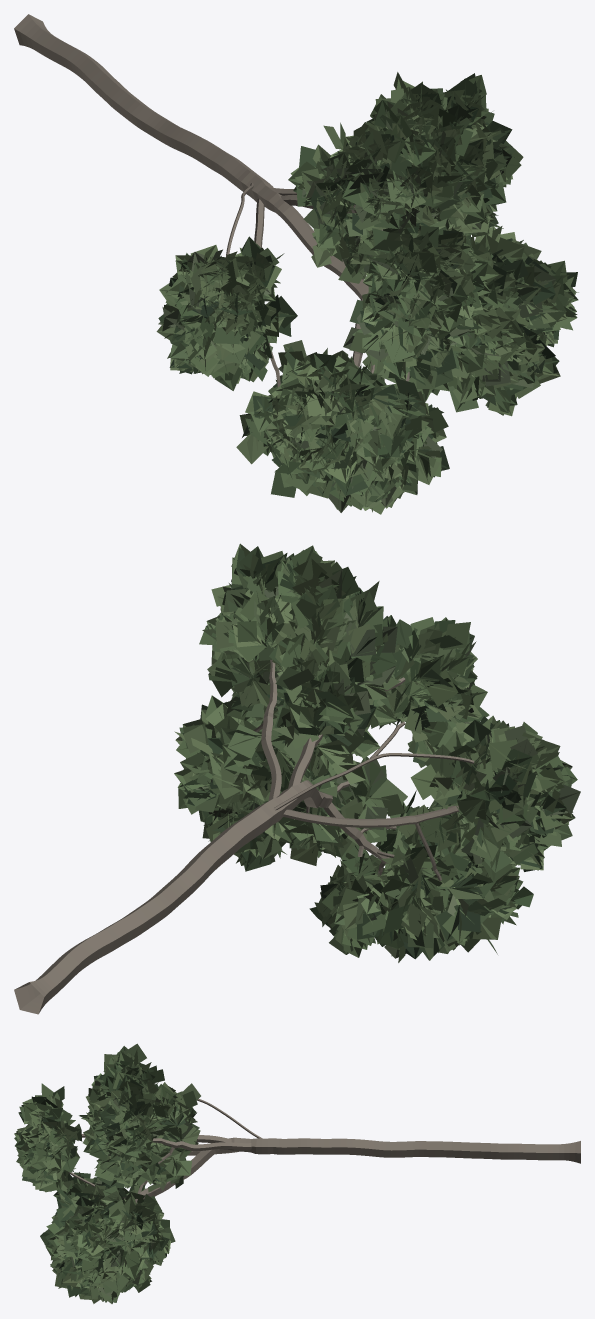
The model's file is tree_mid_12.obj.
The picture shows the model from 3 angles, top to bottom: view 1: azimuth 30°, elevation 25°; view 2: azimuth 150°, elevation 25°; view 3: azimuth 270°, elevation 25°; orthographic projection. The views are drawn at different scales.
Visible parts, largest first — view 1: tree_mid_12; view 2: tree_mid_12; view 3: tree_mid_12.
Part boxes in pixels (x1,y1,x2,y2): tree_mid_12: (14, 14, 578, 514); tree_mid_12: (14, 543, 580, 1014); tree_mid_12: (14, 1043, 580, 1303).
Bounding box in the file's own units: 0.557 × 0.5309 × 1.01.
Materials: 1 (1 with a texture image).
